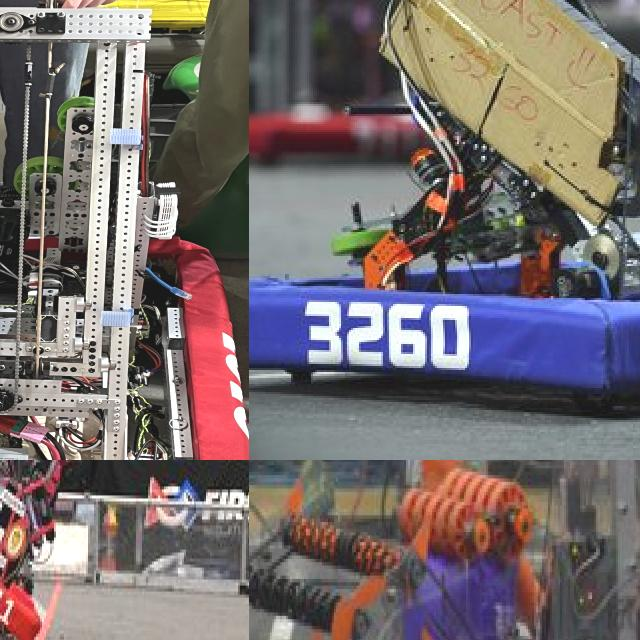FRC-Robots: (249, 0, 640, 444), (0, 0, 249, 460), (249, 460, 640, 640), (0, 460, 73, 640)
